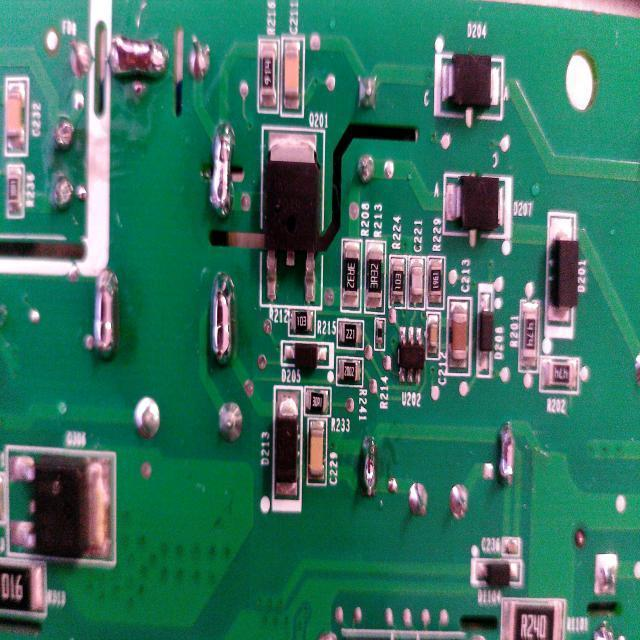Soldering shorted: (102, 26, 174, 92), (89, 260, 121, 370), (206, 262, 236, 372), (209, 114, 235, 222), (358, 424, 382, 502), (492, 417, 518, 488)
